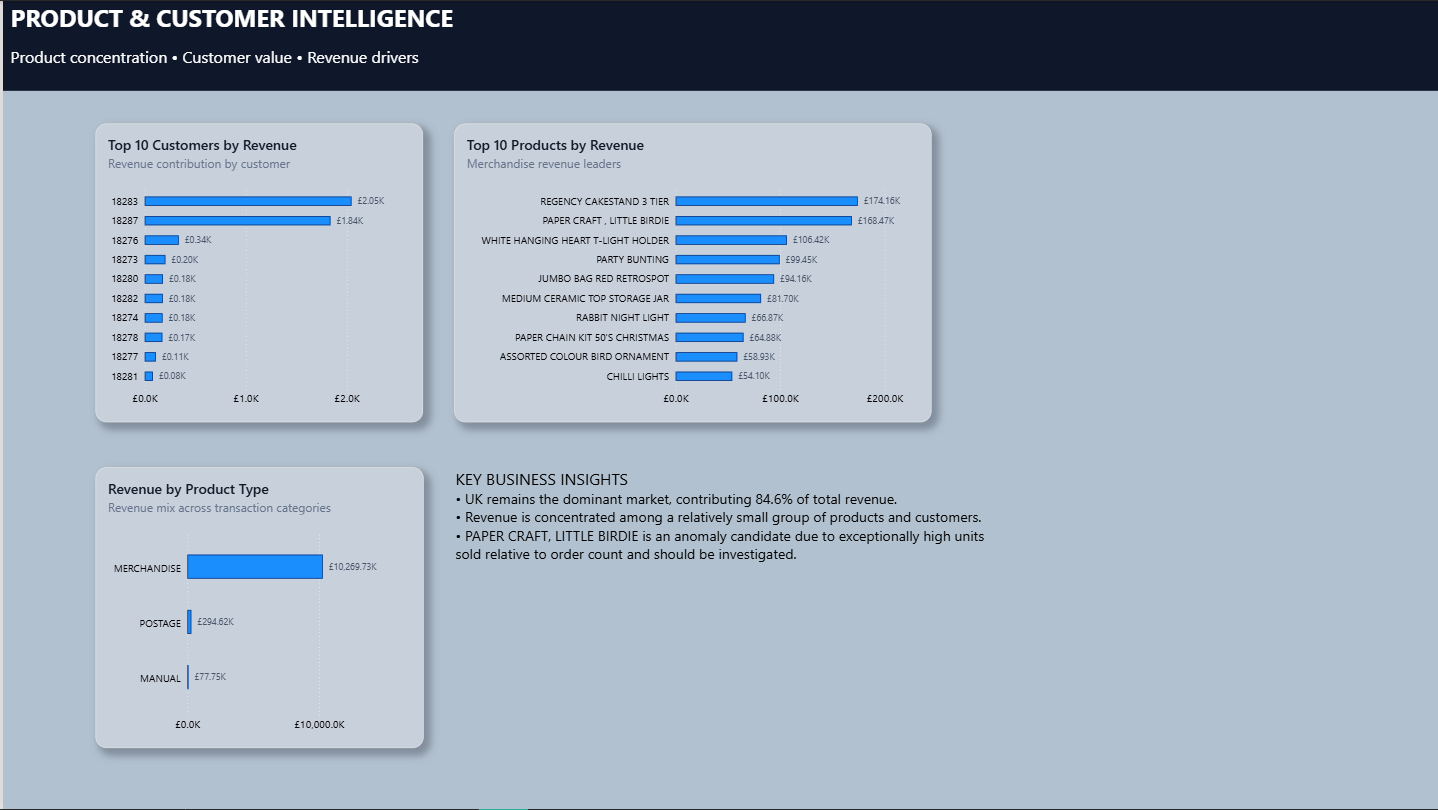

Layout of this report page (visuals, bound fields, positions):
{"tool":"powerbi","page":{"name":"02 Product & Customer Intelligence","canvas":[1920,1080],"ordinal":1},"visuals":[{"type":"shape","box":[0,0,1920,120],"z":0},{"type":"textbox","box":[9.2,0,592.6,44.2],"z":1000},{"type":"textbox","box":[9.2,60.7,557.7,46],"z":2000},{"type":"clusteredBarChart","title":"Top 10 Customers by Revenue","fields":{"Category":["retail dim_customer.customer_id"],"Y":["Sum(retail fact_sales.revenue)"]},"box":[123.6,163.6,437.5,399.1],"z":3000},{"type":"clusteredBarChart","title":"Top 10 Products by Revenue","fields":{"Category":["retail dim_product.Description"],"Y":["Sum(retail fact_sales.revenue)"]},"box":[602.8,163.6,637.9,399.1],"z":4000},{"type":"clusteredBarChart","title":"Revenue by Product Type","fields":{"Category":["retail dim_product.product_type"],"Y":["Sum(retail fact_sales.revenue)"]},"box":[123.6,622.8,438,375],"z":5000},{"type":"textbox","box":[604.5,622.8,713,162],"z":6000}]}

Visuals, with their boxes in screenshot pixels (x1, y1, x2, y2), scaled from the page's 1920x1080 canvas onto the 1438x810 screenshot:
shape: [0, 0, 1437, 90]
textbox: [7, 0, 451, 33]
textbox: [7, 46, 425, 80]
"Top 10 Customers by Revenue" clusteredBarChart: [93, 123, 420, 422]
"Top 10 Products by Revenue" clusteredBarChart: [451, 123, 929, 422]
"Revenue by Product Type" clusteredBarChart: [93, 467, 421, 748]
textbox: [453, 467, 987, 589]
